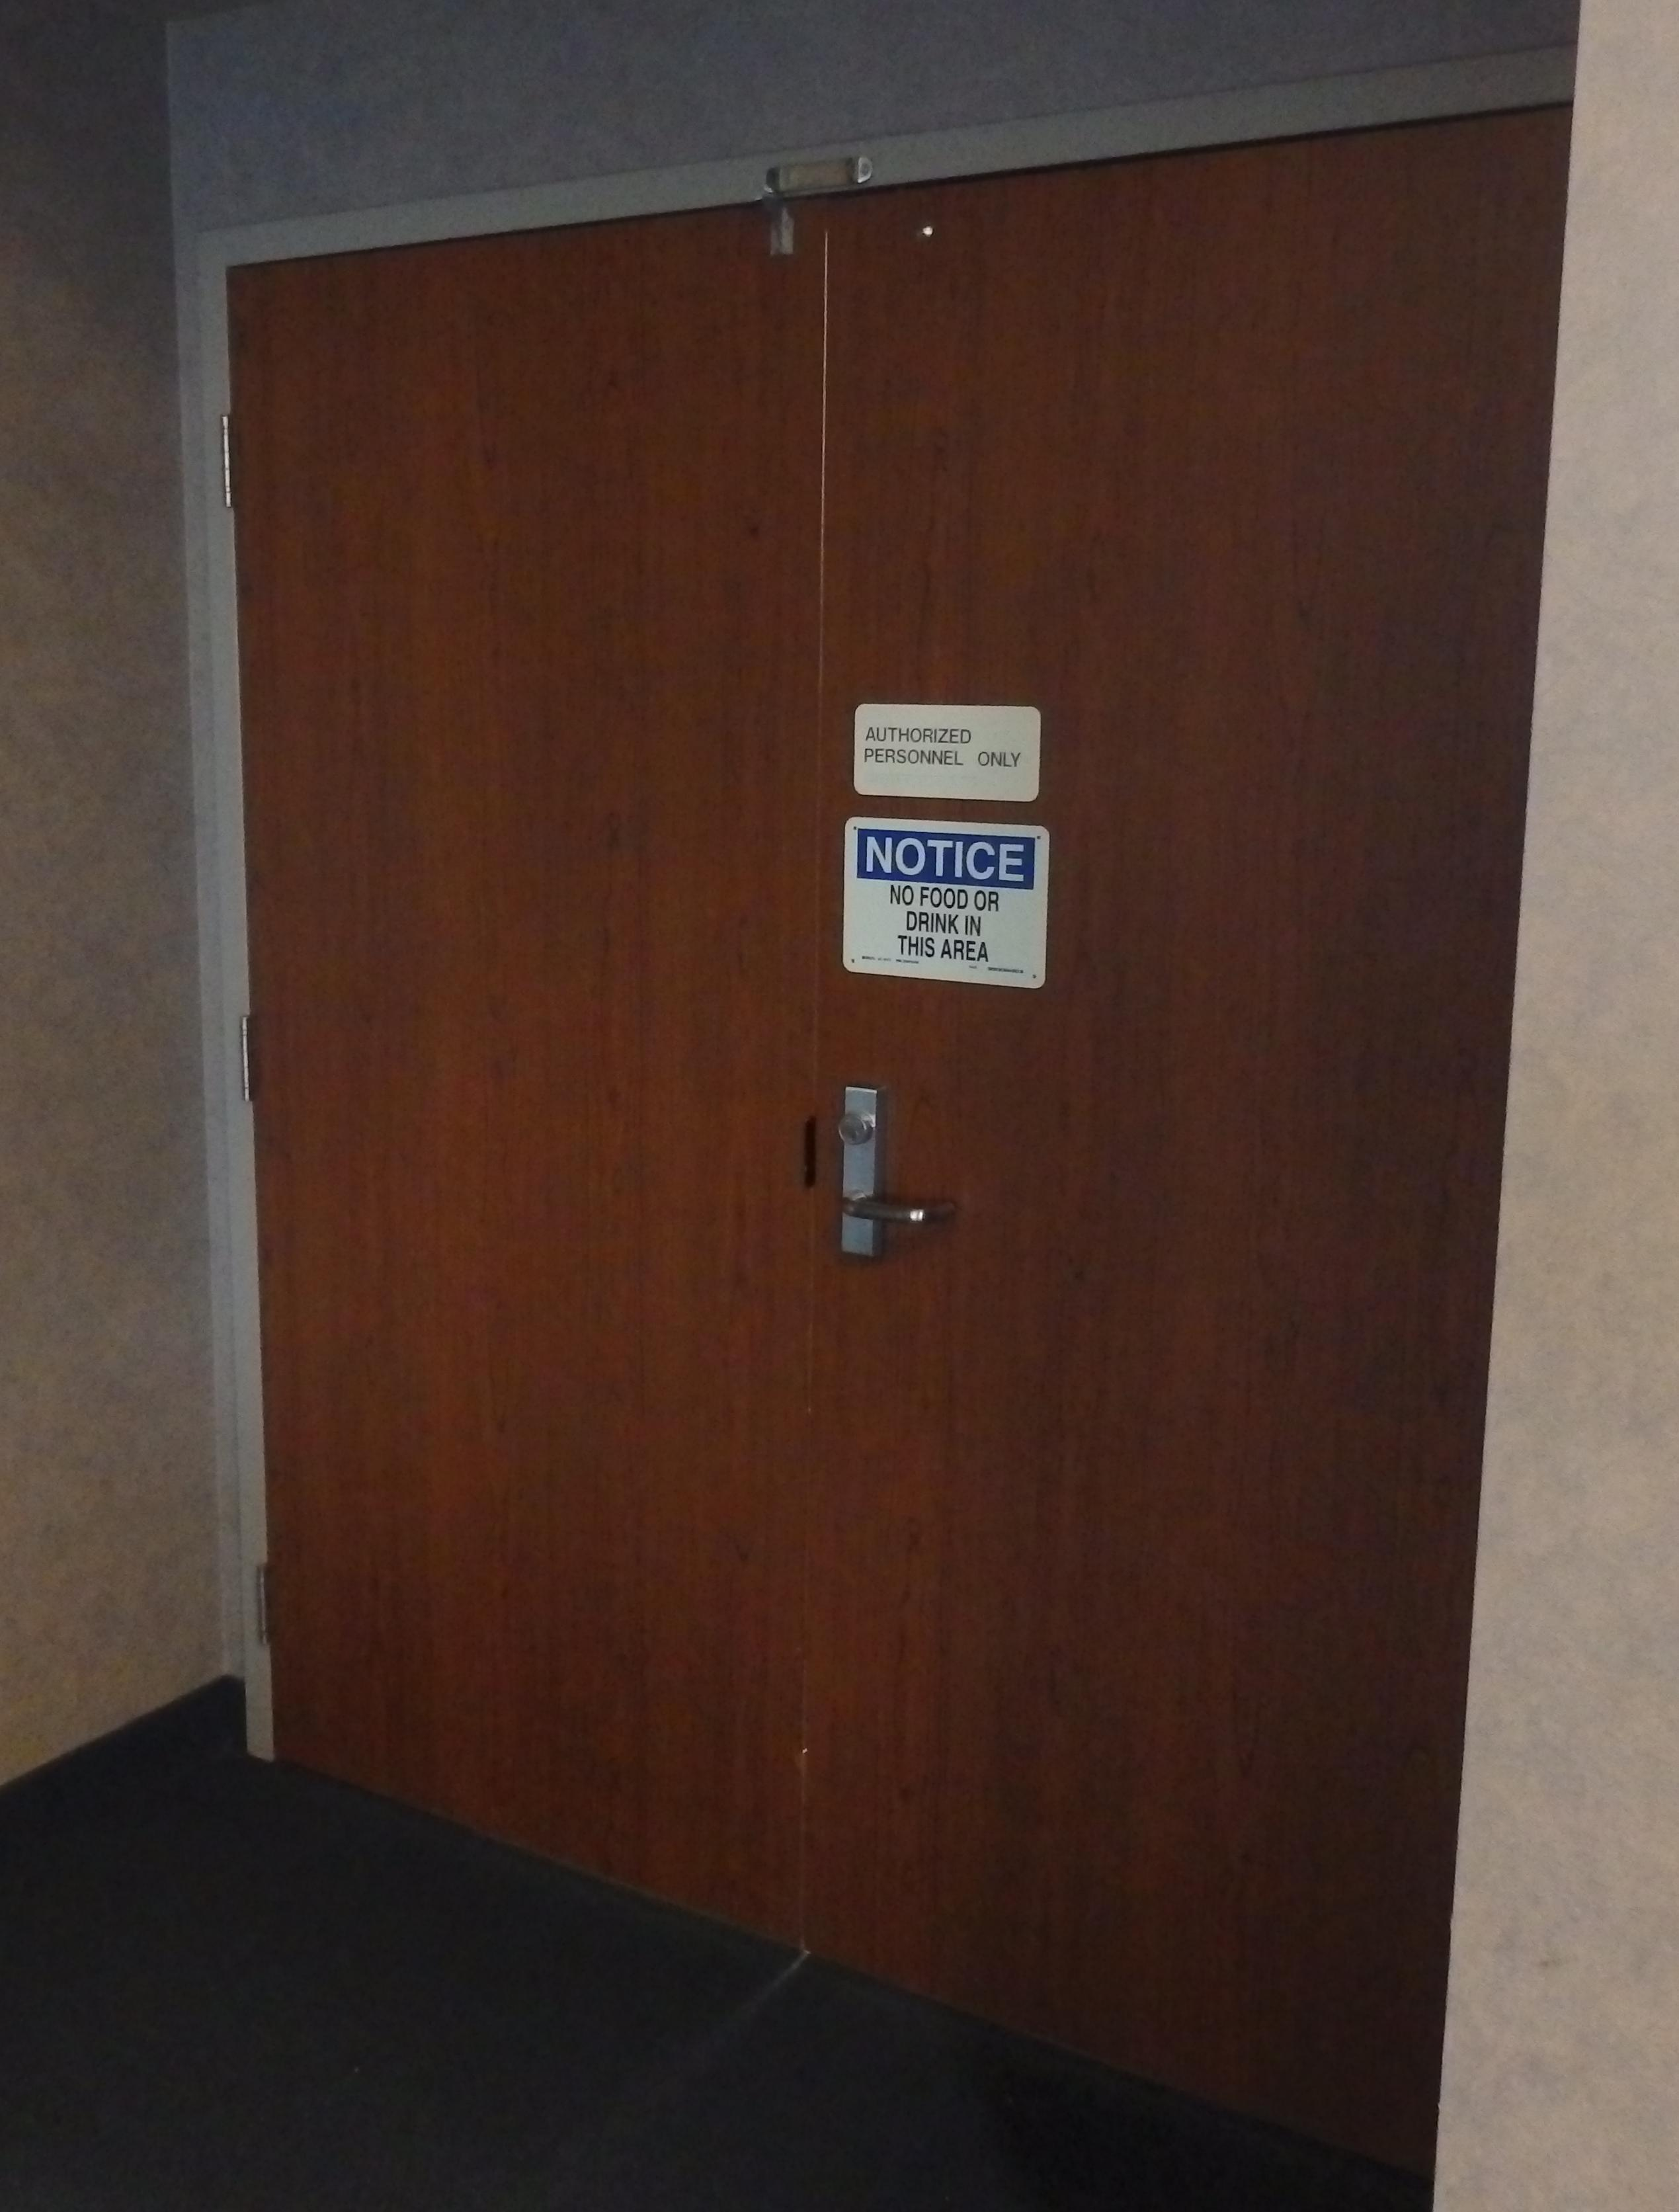door: (155, 159, 1513, 2168)
